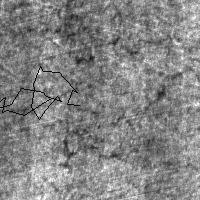crazing: (50, 105, 138, 170), (51, 1, 127, 65), (0, 66, 79, 119)
